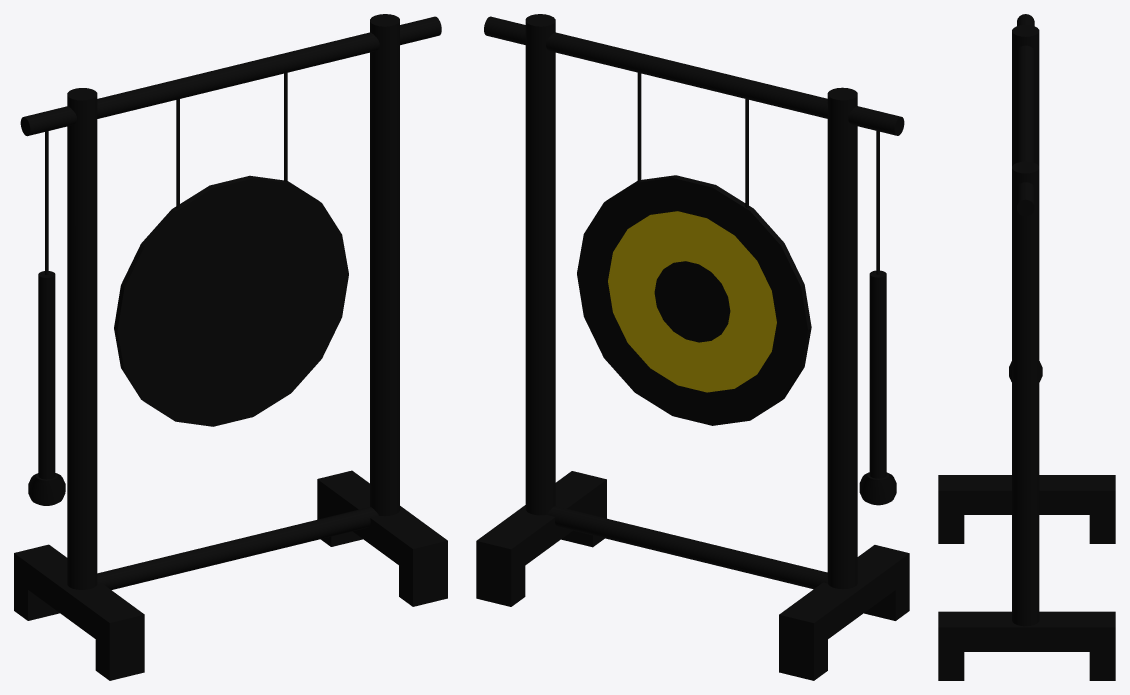
File: Gong.obj
3 renders of one model, left to right at view 1: azimuth 30°, elevation 25°; view 2: azimuth 150°, elevation 25°; view 3: azimuth 270°, elevation 25°, orthographic. The views are drawn at different scales.
Visible parts, largest first — view 1: Cylinder006, Cylinder003, Cylinder002, Box002, Cylinder005, Box001, Cylinder004, Cylinder010, Cylinder011; view 2: Cylinder006, Cylinder003, Cylinder002, Box002, Cylinder005, Box001, Cylinder004, Cylinder010, Cylinder011; view 3: Cylinder002, Box001, Box002, Cylinder005, Cylinder003.
Part boxes in pixels (x1,y1,x2,y2): Cylinder006: [114, 175, 348, 426]; Cylinder003: [67, 88, 97, 589]; Cylinder002: [370, 14, 399, 516]; Box002: [14, 544, 144, 680]; Cylinder005: [20, 16, 441, 136]; Box001: [317, 470, 447, 606]; Cylinder004: [97, 507, 378, 589]; Cylinder010: [38, 271, 55, 479]; Cylinder011: [28, 473, 65, 505]; Cylinder006: [577, 175, 811, 425]; Cylinder003: [827, 87, 857, 589]; Cylinder002: [525, 14, 555, 515]; Box002: [779, 545, 909, 680]; Cylinder005: [484, 16, 904, 135]; Box001: [476, 471, 606, 606]; Cylinder004: [547, 506, 827, 589]; Cylinder010: [869, 270, 886, 478]; Cylinder011: [859, 472, 896, 505]; Cylinder002: [1012, 161, 1039, 626]; Box001: [938, 611, 1115, 680]; Box002: [938, 475, 1115, 543]; Cylinder005: [1017, 14, 1034, 216]; Cylinder003: [1012, 25, 1039, 165].
Bounding box in the file's own units: 623830 × 793199 × 251579.
